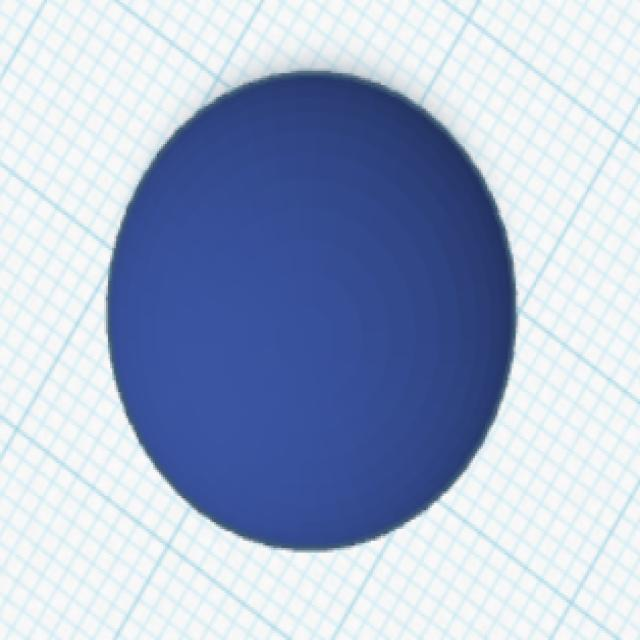sphere: (102, 64, 520, 556)
